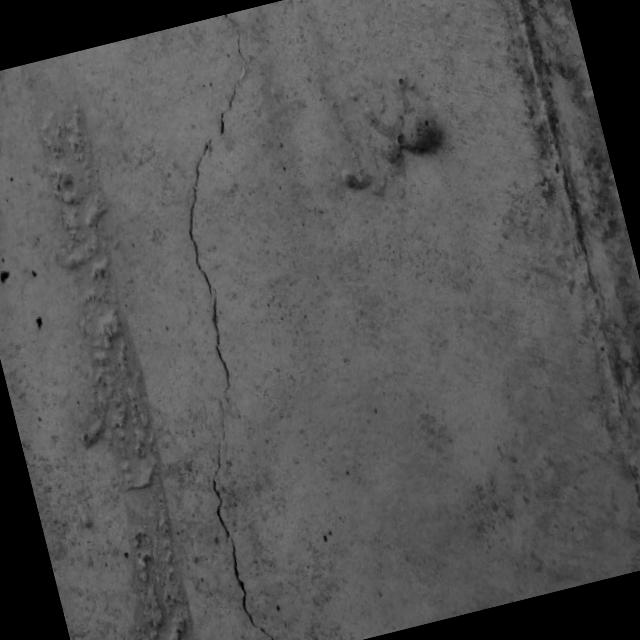crack: (95, 11, 391, 640)
